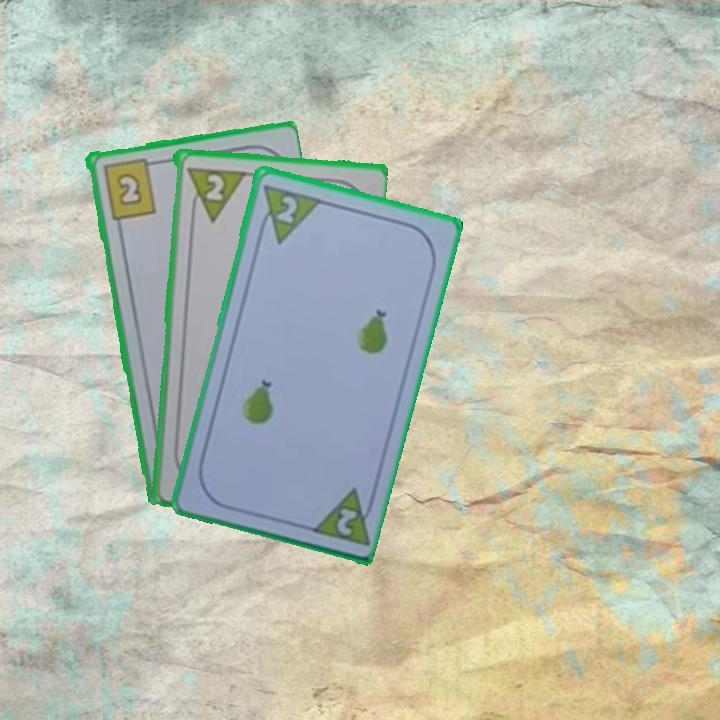2b: (99, 154, 160, 222)
2p: (253, 180, 324, 246), (332, 504, 360, 539), (200, 170, 227, 204)
